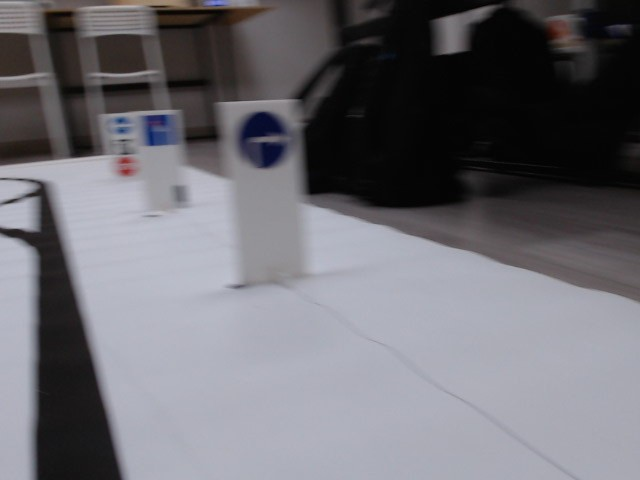Right: (233, 109, 294, 170)
priority_movement: (143, 112, 183, 149)
